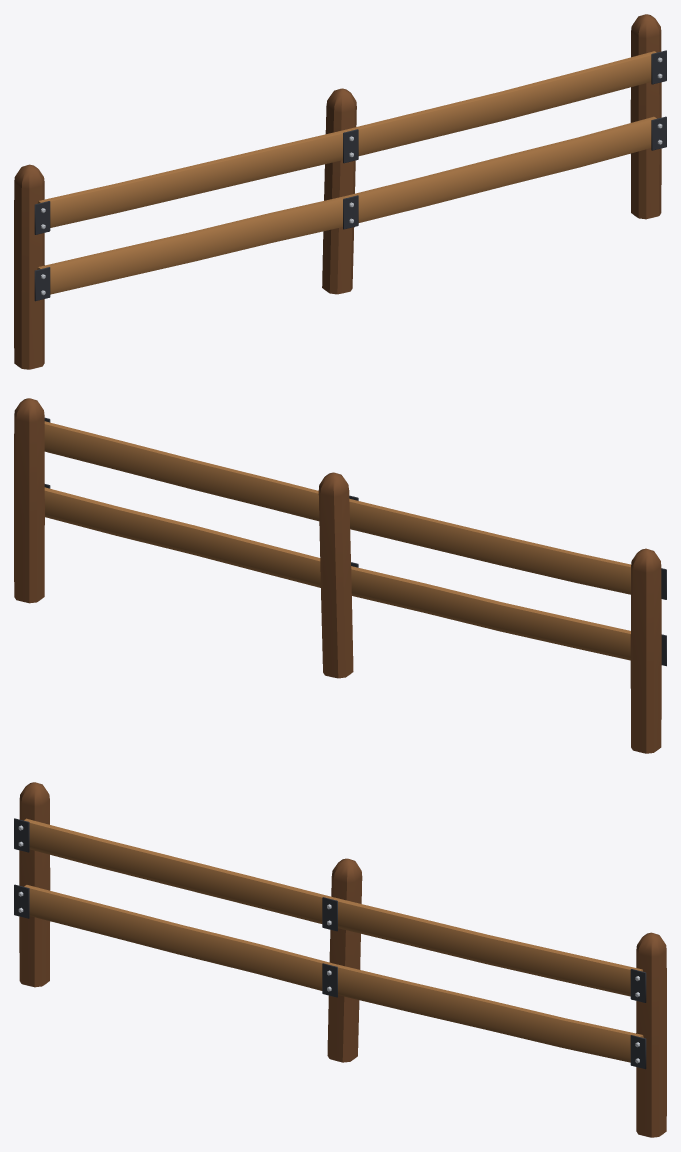
The model's file is fence_segment.glb.
The picture shows the model from 3 angles, top to bottom: view 1: azimuth 30°, elevation 25°; view 2: azimuth 150°, elevation 25°; view 3: azimuth 330°, elevation 25°; orthographic projection.
Visible parts, largest first — view 1: fence_segment; view 2: fence_segment; view 3: fence_segment.
Part boxes in pixels (x1=…): fence_segment: x1=14, y1=14, x2=666, y2=369; fence_segment: x1=14, y1=398, x2=666, y2=753; fence_segment: x1=14, y1=782, x2=666, y2=1137.
Size of the model in its own units: 4.15 by 1.23 by 0.242.
